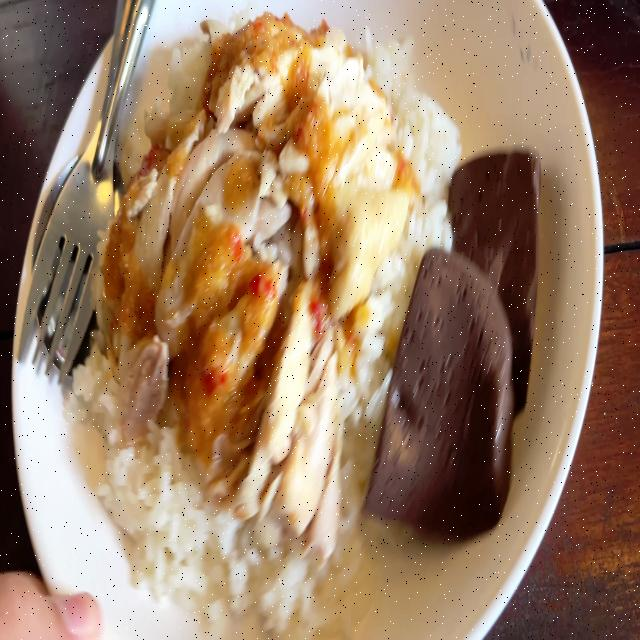boiled_chicken: (120, 24, 396, 499)
boiled_chicken_blood_jelly: (370, 248, 510, 541), (444, 146, 540, 412)
chicken_rice: (79, 16, 544, 607)
